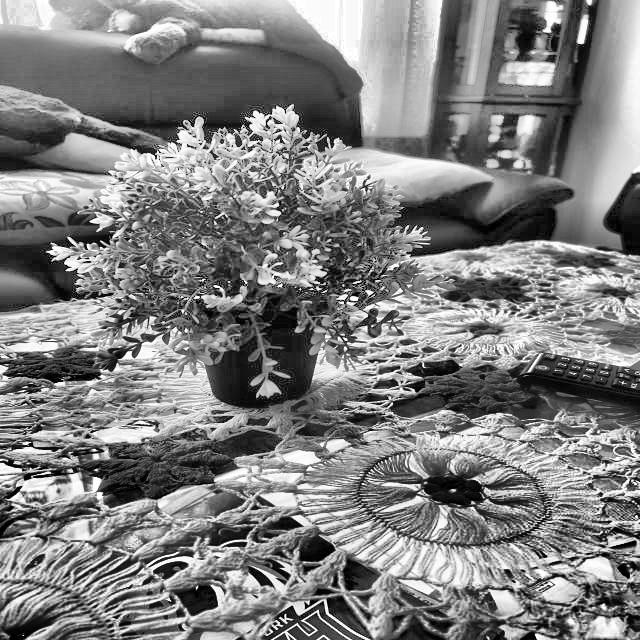plants: (47, 135, 440, 366)
